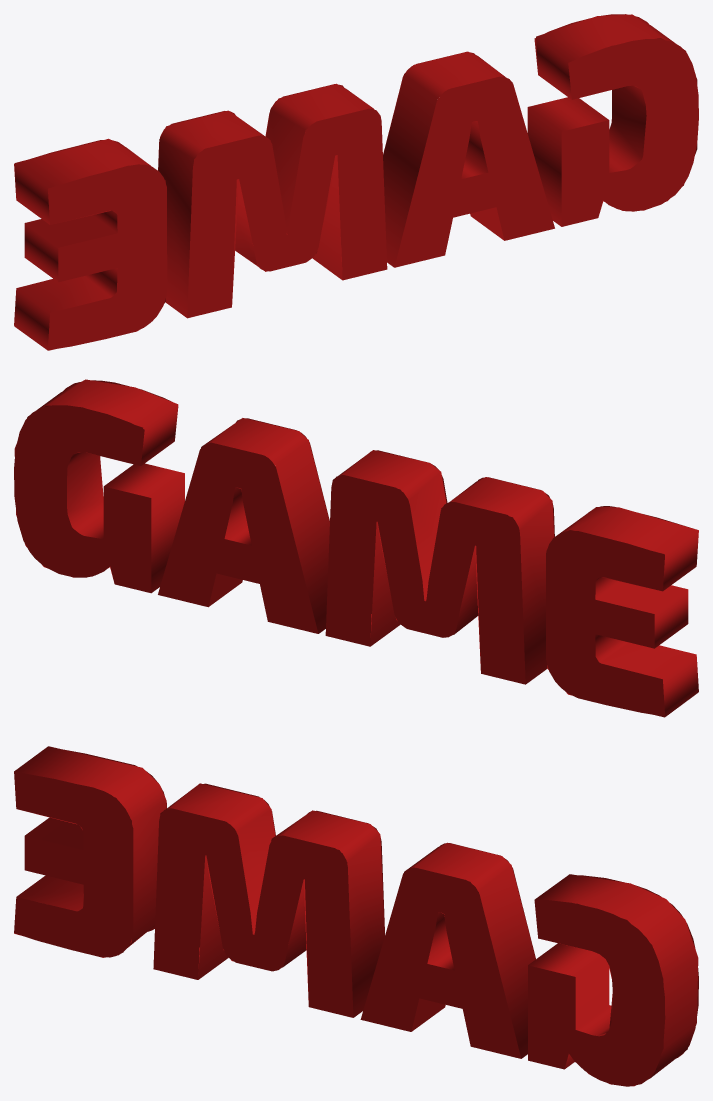
The model's file is game.fbx.
3 renders of one model, top to bottom at view 1: azimuth 30°, elevation 25°; view 2: azimuth 150°, elevation 25°; view 3: azimuth 330°, elevation 25°, orthographic.
Visible parts, largest first — view 1: Text; view 2: Text; view 3: Text.
Boxes of the visible parts, <box> form: Text: <box>14,14,698,350</box>; Text: <box>14,379,698,717</box>; Text: <box>14,746,698,1086</box>.
Size of the model in its own units: 8.89 by 2.26 by 0.8.
